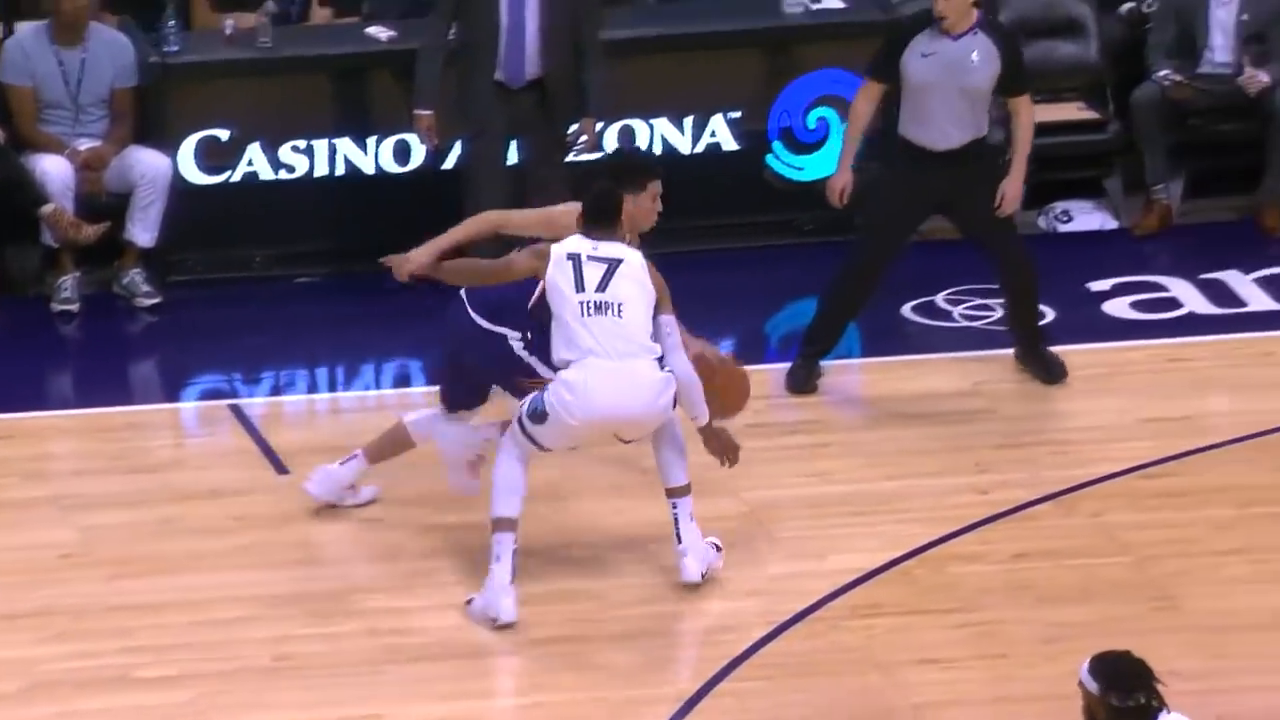ball: (697, 357, 754, 419)
